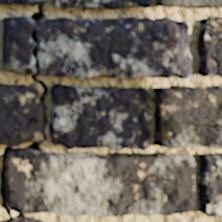brick: (5, 152, 195, 215), (49, 84, 151, 149), (155, 86, 221, 148), (0, 84, 42, 145), (199, 153, 221, 215), (198, 17, 221, 76), (54, 0, 151, 9), (157, 0, 221, 7), (0, 0, 44, 5), (0, 217, 41, 221)
broken_brick: (37, 16, 193, 80), (2, 16, 34, 75)
crack: (0, 2, 49, 219), (0, 101, 38, 137)
